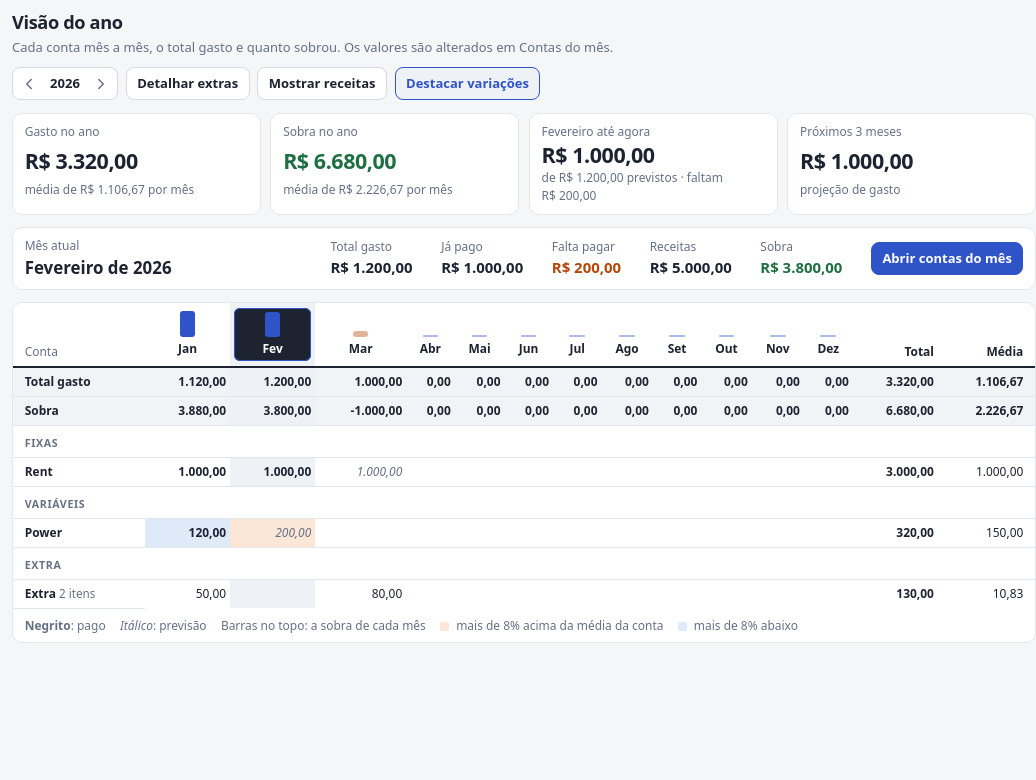
YearPage › sums the occasional bills in one row until their detail is asked for
Expected: the element named "Contas do ano" is shown, [12,302,1035,643]
Expected: the row "Fine" is not shown
Step 1. Click the button "Detalhar extras" → (188, 84), box [126,67,250,100]
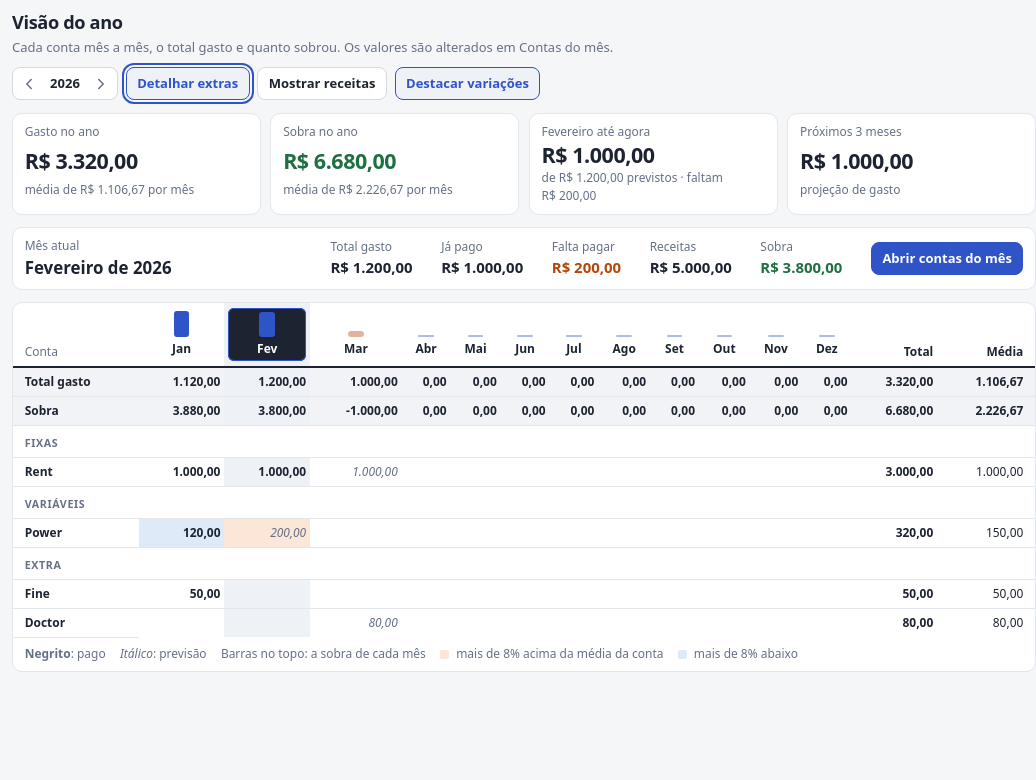
Result: the column heading "Extra 2 itens" is gone
